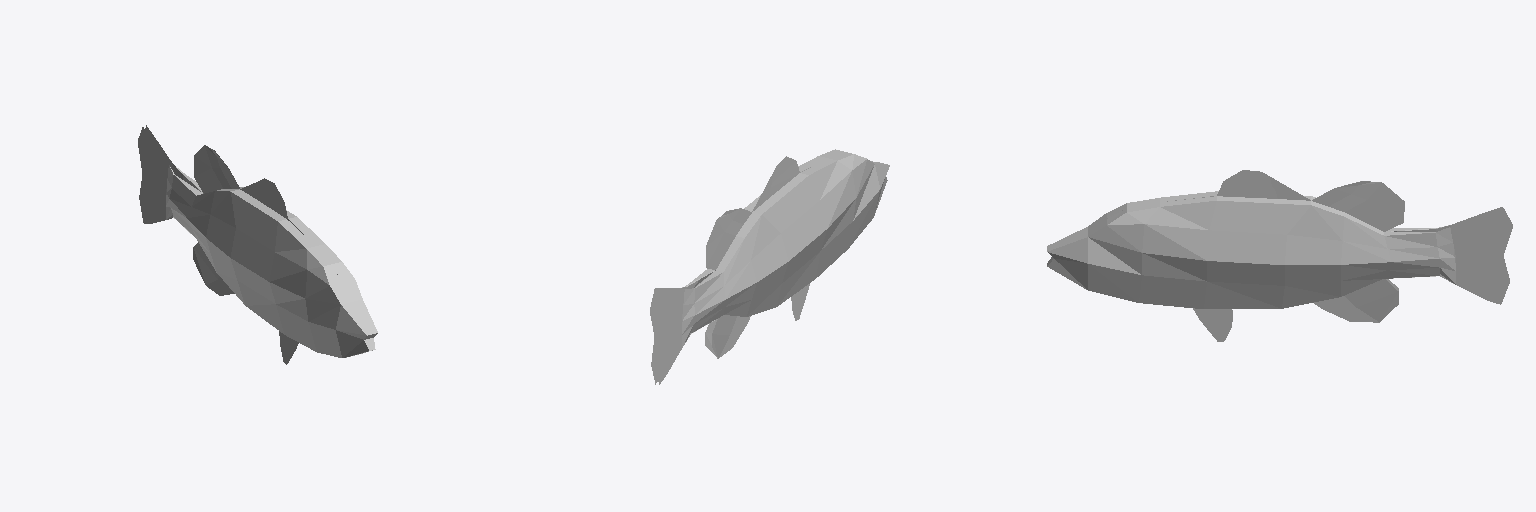
Rendered from Fish4.obj.
3 renders of one model, left to right at view 1: azimuth 30°, elevation 25°; view 2: azimuth 150°, elevation 25°; view 3: azimuth 270°, elevation 25°, orthographic.
Visible parts, largest first — view 1: Cube.002; view 2: Cube.002; view 3: Cube.002.
Part boxes in pixels (x1,y1,x2,y2): Cube.002: (138,125,377,364); Cube.002: (650,149,889,384); Cube.002: (1047,170,1512,341).
Bounding box in the file's own units: 0.1703 × 0.6038 × 1.48.